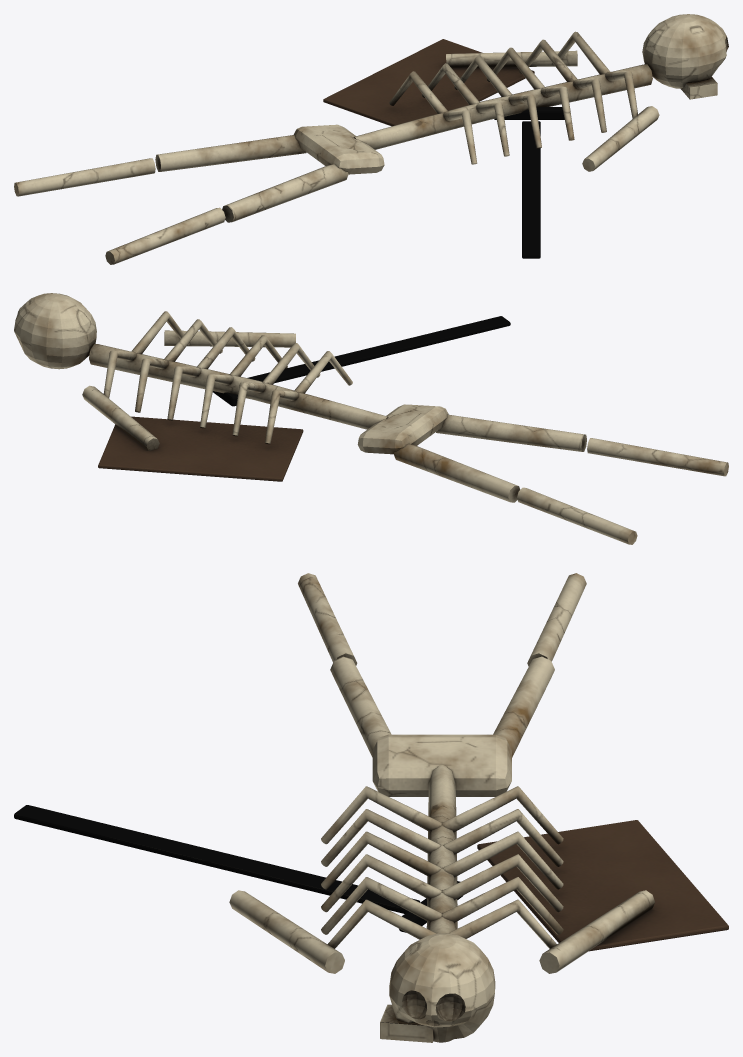
File: cenario_ossada.glb
3 views of the same model, one above another, from view 1: azimuth 30°, elevation 25°; view 2: azimuth 150°, elevation 25°; view 3: azimuth 270°, elevation 25° (orthographic). The views are drawn at different scales.
Visible parts, largest first — view 1: cenario_ossada_tronco; view 2: cenario_ossada_tronco; view 3: cenario_ossada_tronco.
Part boxes in pixels (bbox=[...]): cenario_ossada_tronco: bbox=[14, 14, 728, 264]; cenario_ossada_tronco: bbox=[14, 293, 728, 544]; cenario_ossada_tronco: bbox=[14, 573, 728, 1042].
Bounding box in the file's own units: 2.04 × 0.2 × 1.33.
1 material, 1 textured.
